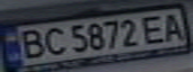2: (118, 16, 142, 48)
5: (66, 21, 90, 54)
7: (103, 17, 124, 51)
8: (84, 20, 106, 52)
A: (157, 10, 190, 43)
B: (15, 27, 48, 61)
C: (39, 25, 69, 56)
E: (139, 12, 172, 45)
